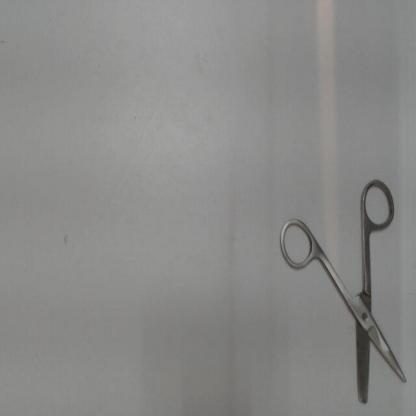Dressing Scissors: (269, 172, 414, 408)
